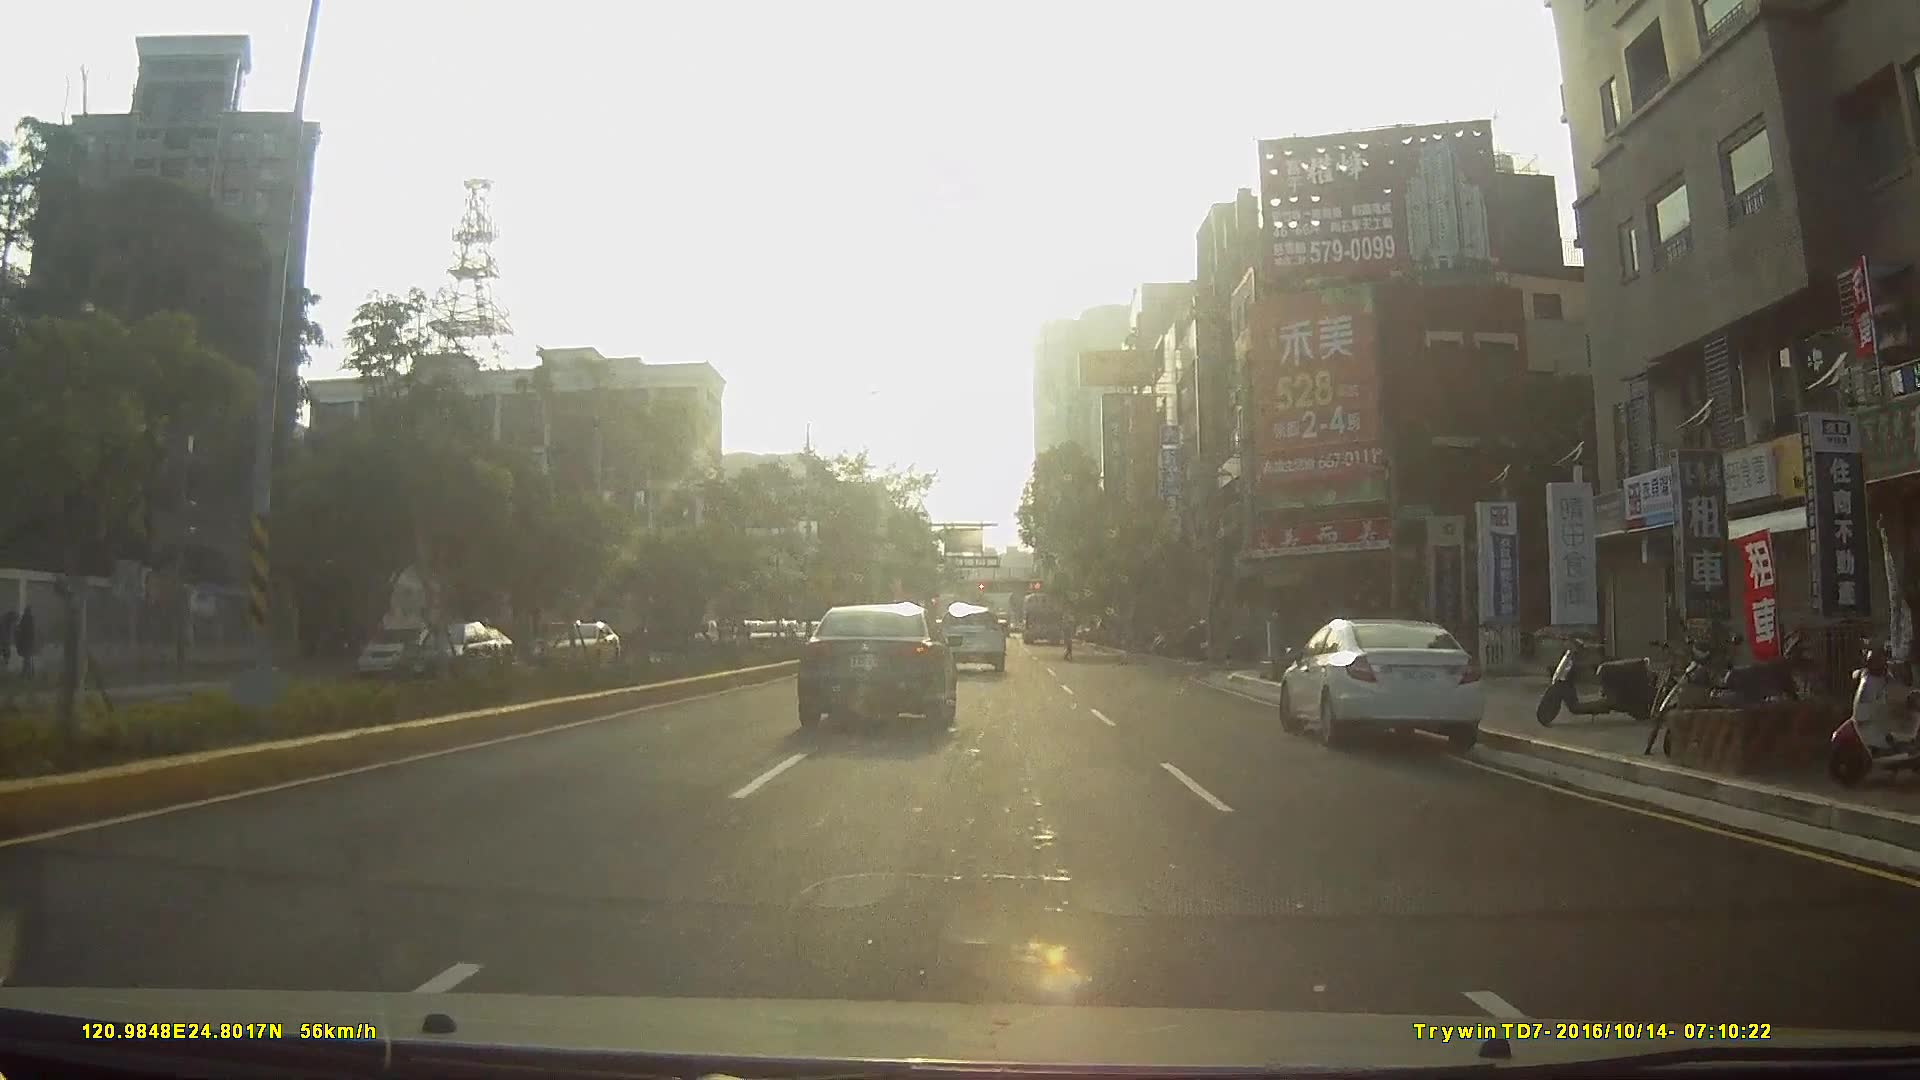pedestrian: (15, 607, 36, 675), (6, 609, 28, 666)
vehicle: (1281, 617, 1498, 755), (794, 600, 958, 730), (374, 612, 511, 698), (931, 602, 1005, 675), (346, 621, 442, 677), (541, 618, 626, 672), (433, 621, 508, 671), (1018, 589, 1063, 646), (741, 619, 793, 657), (679, 617, 717, 651)
